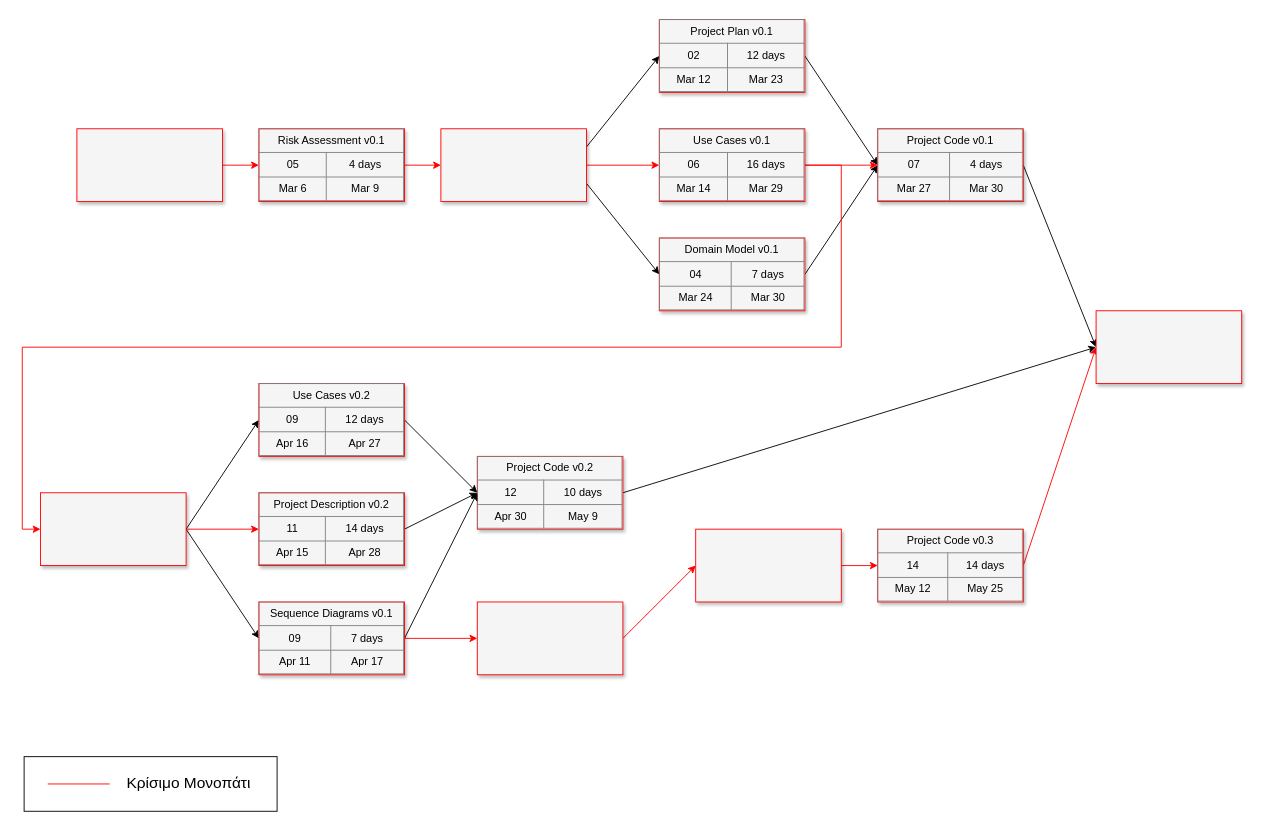
Some shapes in this 1263 by 827 pixel diagram are drawn without their labels. The shapes that lost their labels are listed below. From the top down, each one's centre as x and y in pixels, then its label:
At pixel 150 166: "Team Plan v0.1 03 10 days Mar 3 Mar 12".
At pixel 514 166: "Project Description v0.1 01 6 days Mar 1 Mar 6".
At pixel 1169 348: "Τελική Παράδοση 25 1 day Jun 10 Jun 10".
At pixel 114 530: "Robustness Diagrams v0.1 08 7 days Apr 5 Apr 11".
At pixel 769 566: "Class Diagram v0.1 13 7 days May 15 May 21".
At pixel 550 639: "Domain Model v0.2 10 7 days Apr 23 Apr 29".
